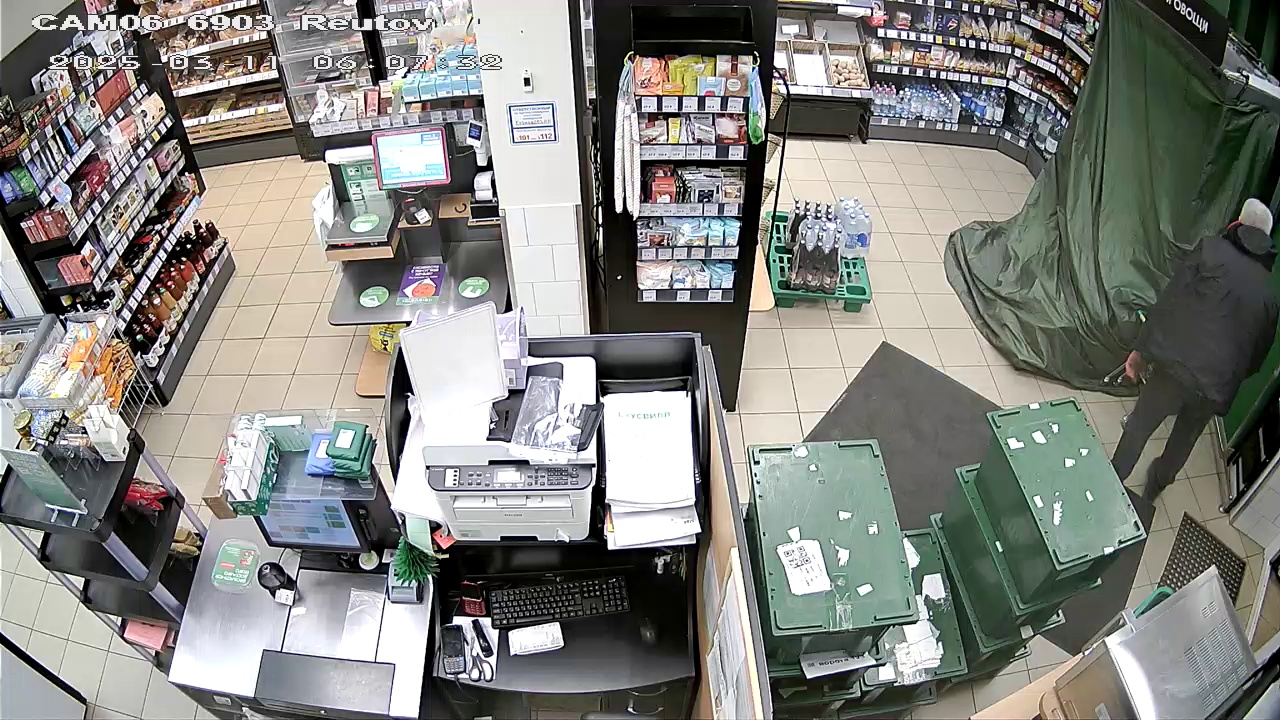Human: (1121, 186, 1275, 542)
dome: (957, 11, 1271, 397)
